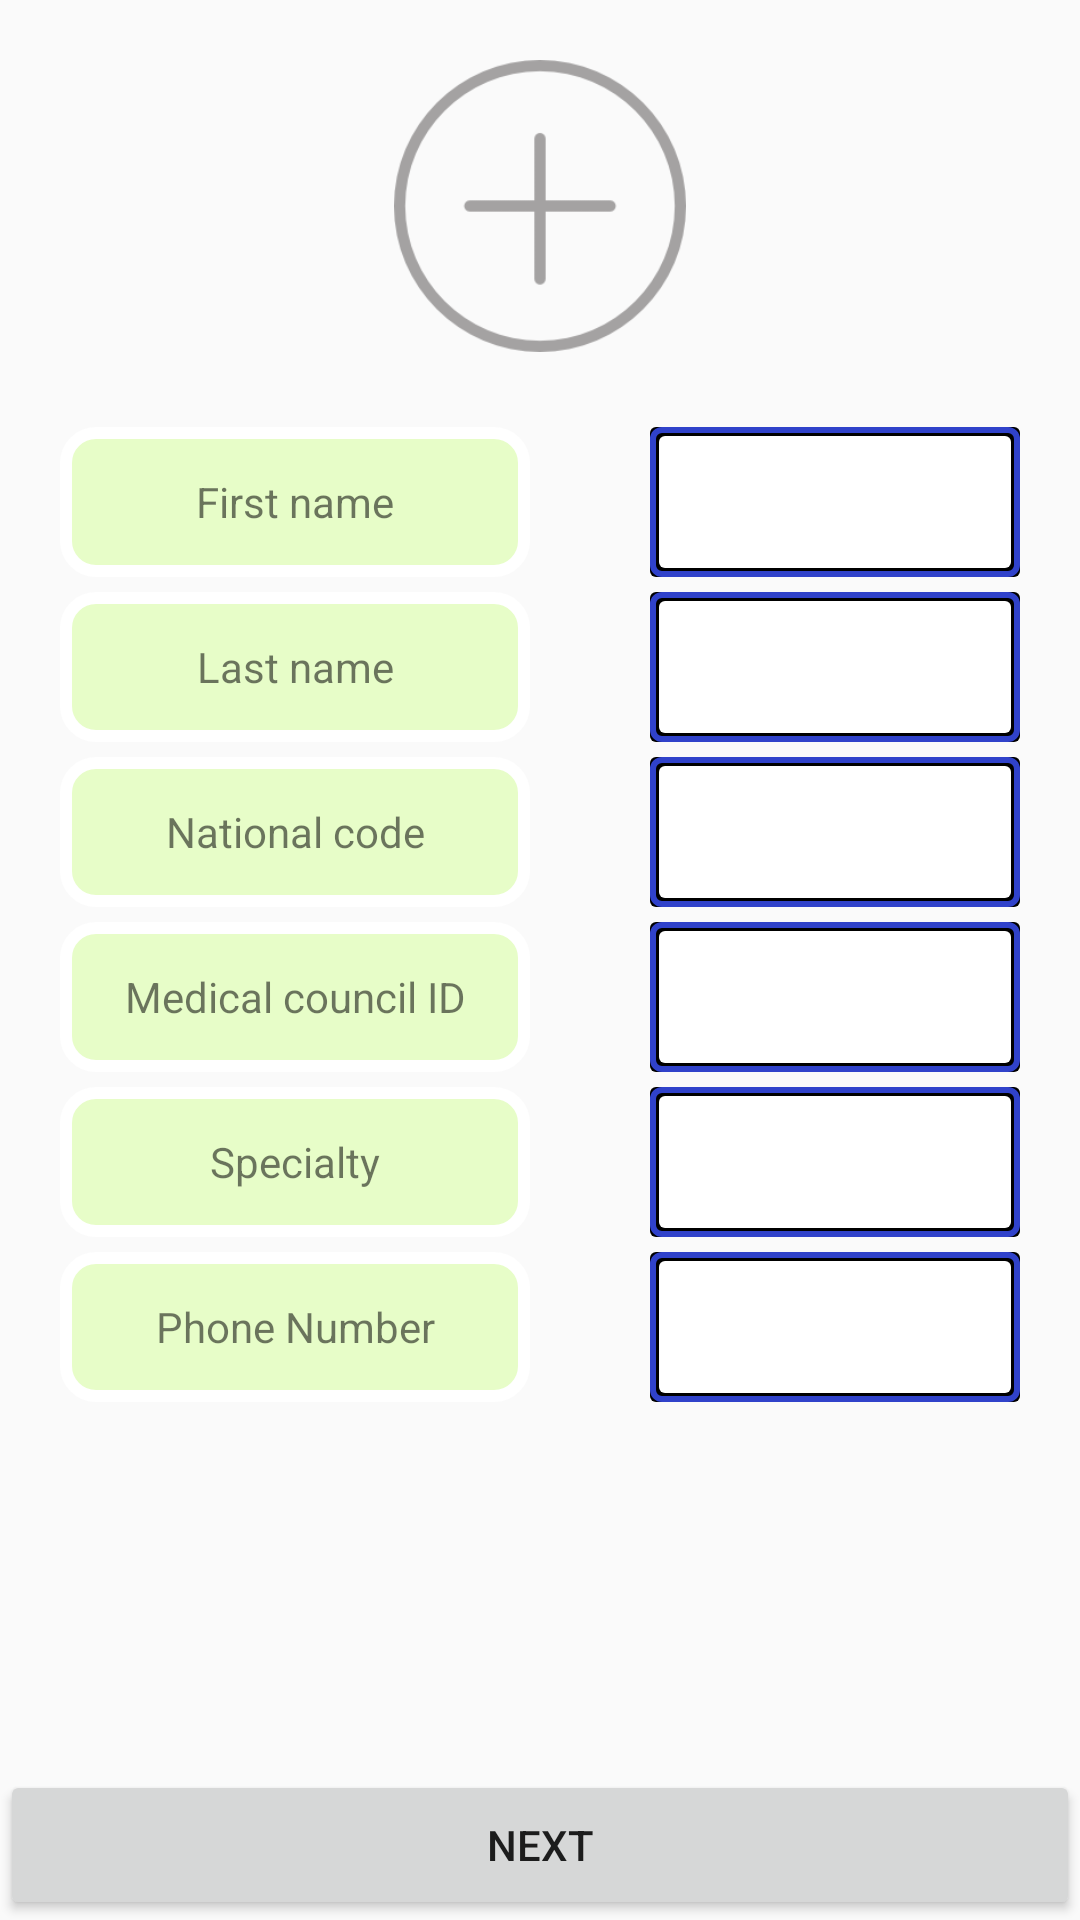

Where to tap for icons on this 1080x1920 app screen, as (x,y):
plus: (540,206)
